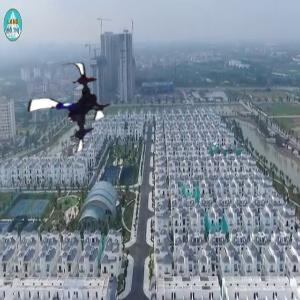drone: (21, 62, 119, 160)
